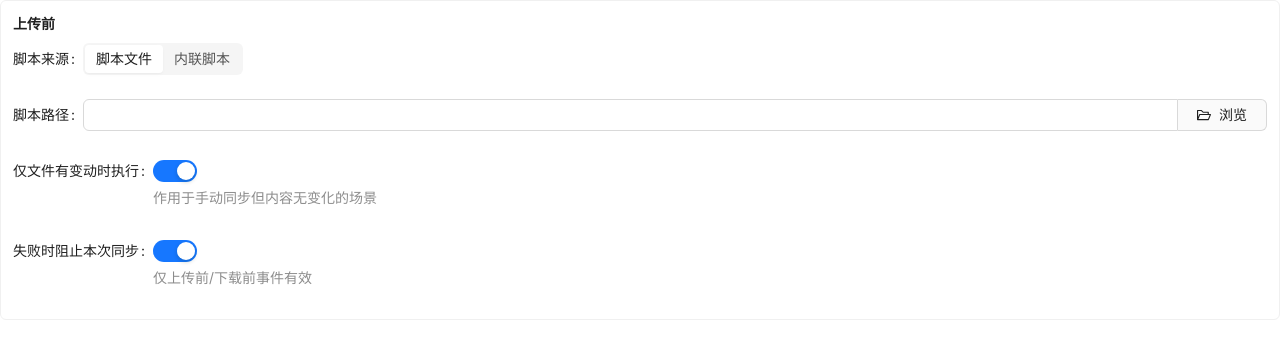
Test case: EventHookSection › 浏览按钮带脚本扩展名过滤并回填路径
This screenshot has width=1280, height=337.
Click the button "浏览": (1222, 115) [1189,103,1255,127]
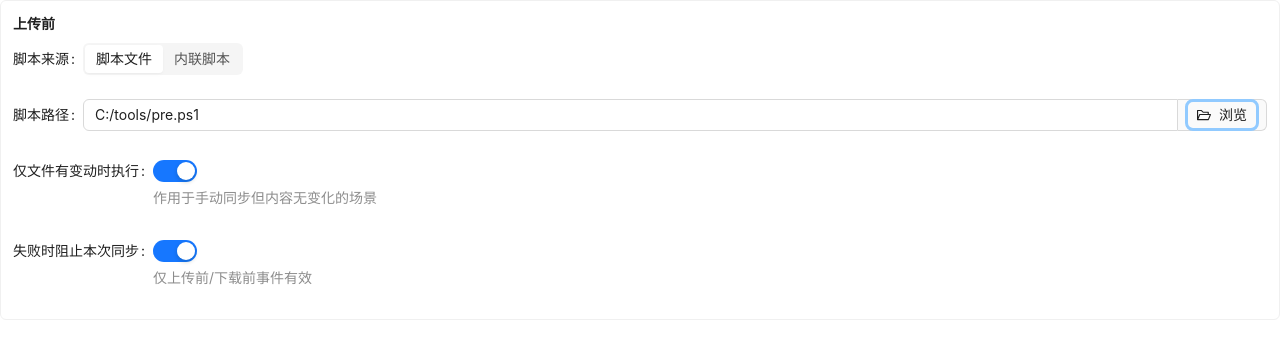
Result: the field holds "C:/tools/pre.ps1" at [83,99,1178,131]
